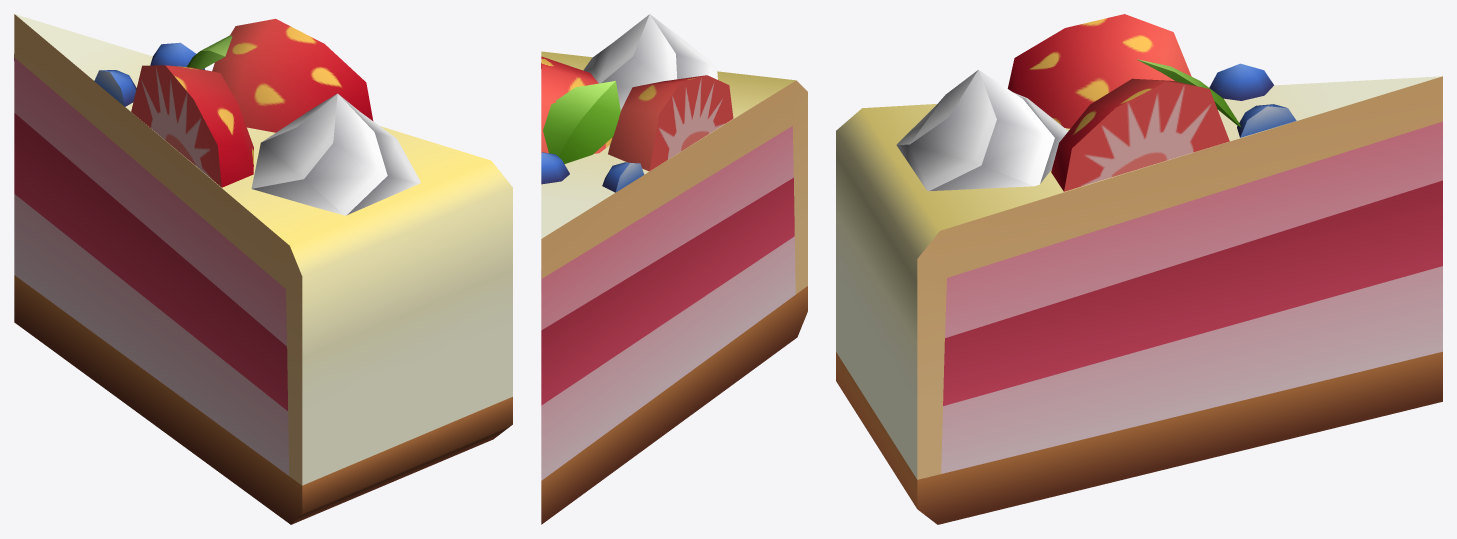
File: m_Cake01_Slice.fbx
The picture shows the model from 3 angles, left to right: view 1: azimuth 30°, elevation 25°; view 2: azimuth 150°, elevation 25°; view 3: azimuth 270°, elevation 25°; orthographic projection. The views are drawn at different scales.
Parts seen in each view (by area): view 1: m_Cake01_Slice; view 2: m_Cake01_Slice; view 3: m_Cake01_Slice.
Part boxes in pixels (x1,y1,x2,y2): m_Cake01_Slice: (14,14,512,524); m_Cake01_Slice: (541,14,807,524); m_Cake01_Slice: (836,14,1442,524).
Size of the model in its own units: 7.01 by 9.87 by 14.
